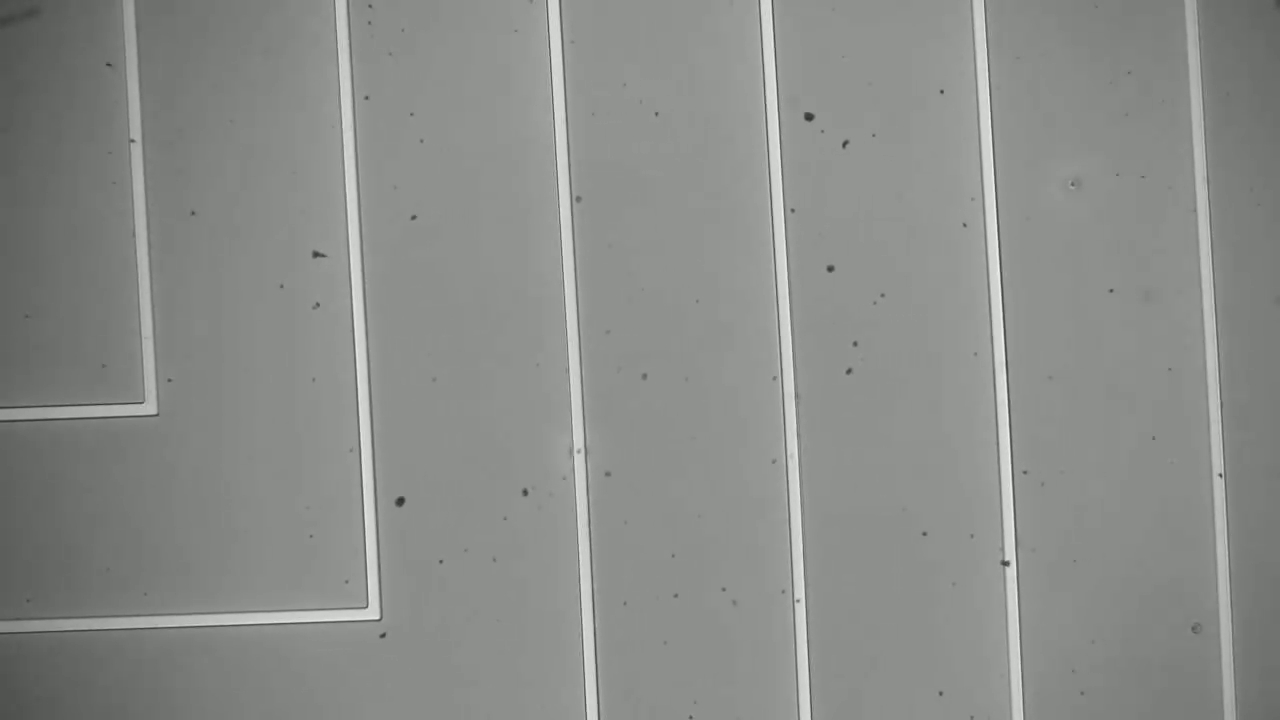stains_enbedded: (997, 551, 1018, 570)
